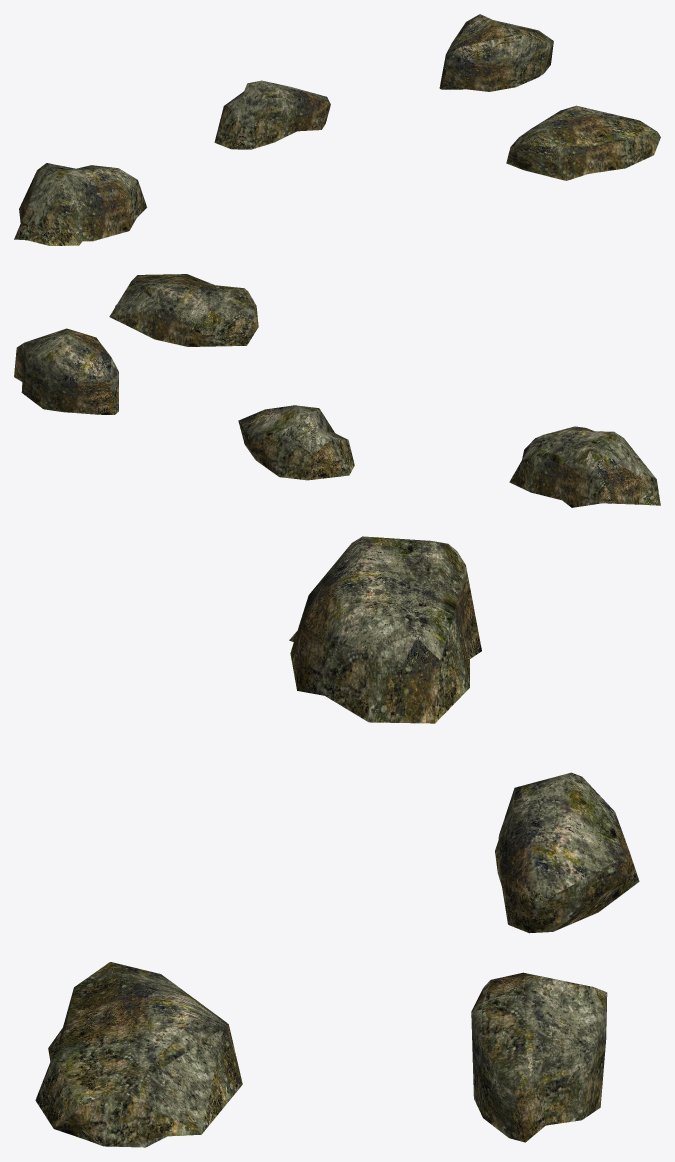
File: ADDON_STONES_COUPLESTONES_01_230P.glb
The picture shows the model from 3 angles, top to bottom: view 1: azimuth 30°, elevation 25°; view 2: azimuth 150°, elevation 25°; view 3: azimuth 270°, elevation 25°; orthographic projection. The views are drawn at different scales.
Visible parts, largest first — view 1: Mesh; view 2: Mesh; view 3: Mesh.
Boxes of the visible parts, x1,y1,x2,y2 form: Mesh: [14, 14, 660, 245]; Mesh: [14, 274, 660, 507]; Mesh: [35, 536, 639, 1147].
Size of the model in its own units: 10.81 by 1.15 by 4.92.
1 material, 1 textured.
